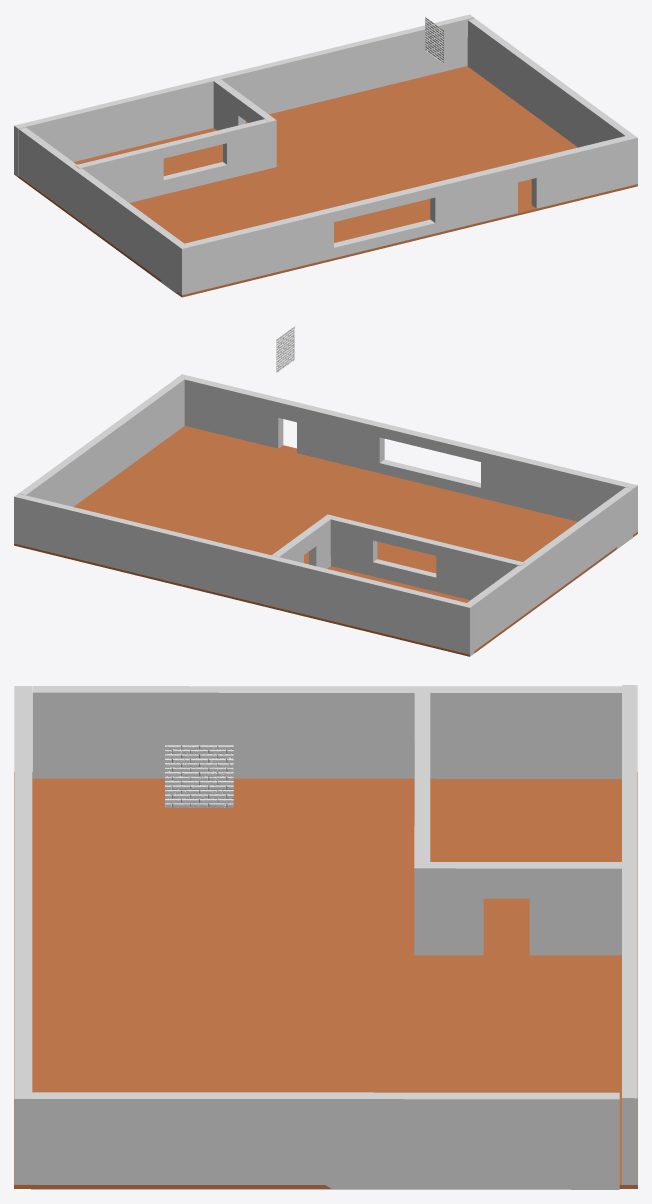
The model's file is house 1.fbx.
3 views of the same model, one above another, from view 1: azimuth 30°, elevation 25°; view 2: azimuth 150°, elevation 25°; view 3: azimuth 270°, elevation 25° (orthographic). The views are drawn at different scales.
Visible parts, largest first — view 1: Grid.001, Grid, Grid.002, Grid.004, Grid.006, Grid.003, Grid.005, Plane; view 2: Grid.001, Grid.002, Grid, Grid.004, Grid.006, Grid.003, Grid.005, Plane; view 3: Grid.001, Grid.003, Grid.004, Grid.005, Grid, Grid.002, Plane, Grid.006.
Part boxes in pixels (bbox=[...]): Grid.001: bbox=[18, 66, 637, 297]; Grid: bbox=[177, 134, 637, 294]; Grid.002: bbox=[14, 14, 474, 177]; Grid.004: bbox=[18, 127, 183, 293]; Grid.006: bbox=[75, 119, 269, 202]; Grid.003: bbox=[467, 18, 632, 147]; Grid.005: bbox=[213, 79, 276, 168]; Plane: bbox=[425, 17, 443, 63]; Grid.001: bbox=[14, 426, 637, 656]; Grid.002: bbox=[14, 493, 474, 656]; Grid: bbox=[177, 374, 637, 534]; Grid.004: bbox=[467, 487, 632, 650]; Grid.006: bbox=[330, 516, 524, 600]; Grid.003: bbox=[19, 378, 184, 506]; Grid.005: bbox=[272, 514, 334, 568]; Plane: bbox=[276, 326, 295, 372]; Grid.001: bbox=[14, 772, 637, 1188]; Grid.003: bbox=[31, 1092, 619, 1189]; Grid.004: bbox=[32, 686, 621, 778]; Grid.005: bbox=[414, 861, 621, 955]; Grid: bbox=[14, 686, 32, 1184]; Grid.002: bbox=[622, 685, 637, 1184]; Plane: bbox=[165, 745, 233, 807]; Grid.006: bbox=[414, 690, 430, 861].
Bounding box in the file's own units: 2843 × 978 × 1814.
